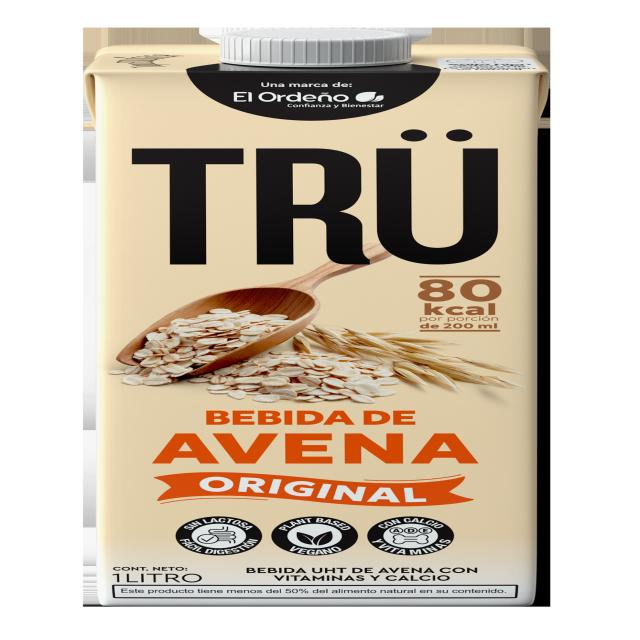avena: (124, 303, 426, 408)
